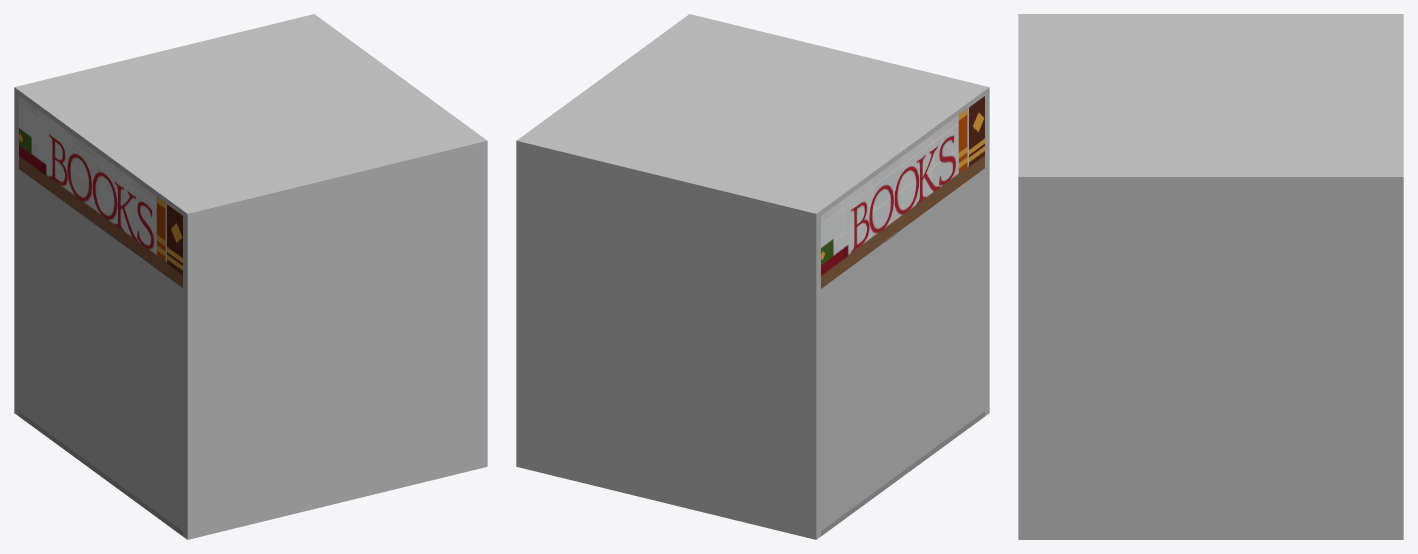
Rendered from bookshop.fbx.
The picture shows the model from 3 angles, left to right: view 1: azimuth 30°, elevation 25°; view 2: azimuth 150°, elevation 25°; view 3: azimuth 270°, elevation 25°; orthographic projection. The views are drawn at different scales.
Parts seen in each view (by area): view 1: Bookshop; view 2: Bookshop; view 3: Bookshop.
Part boxes in pixels (bbox=[...]): Bookshop: bbox=[14, 14, 487, 539]; Bookshop: bbox=[516, 14, 989, 539]; Bookshop: bbox=[1018, 14, 1403, 539].
Size of the model in its own units: 349 by 362 by 349.
